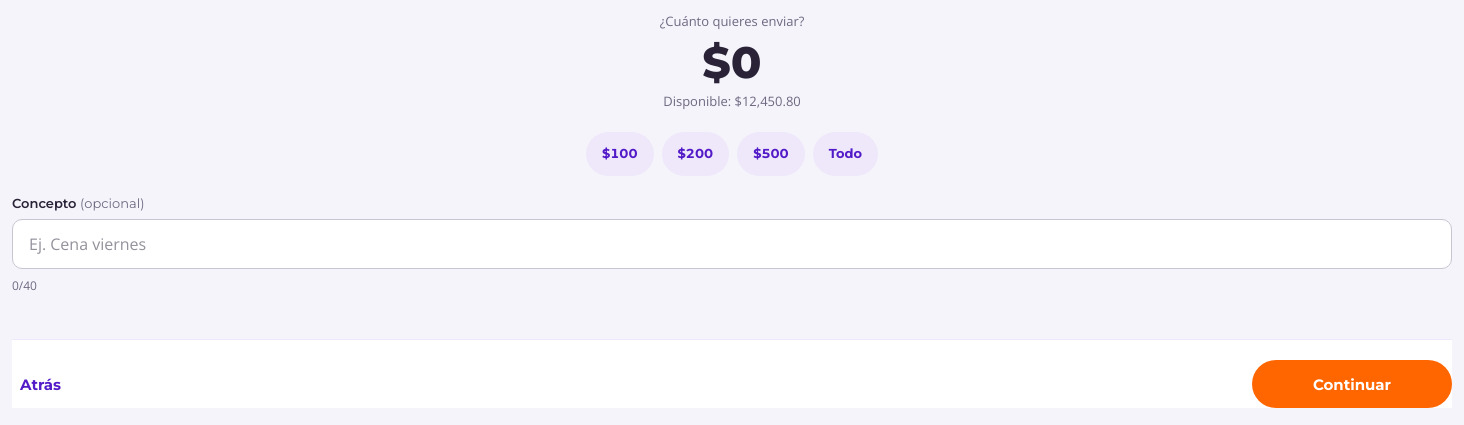
Test: AmountStep › formats the amount while typing
The width and height of the screenshot is (1464, 425).
In the field labelled "¿Cuánto quieres enviar?": (746, 62) [731,36,762,88], type "12450.8"
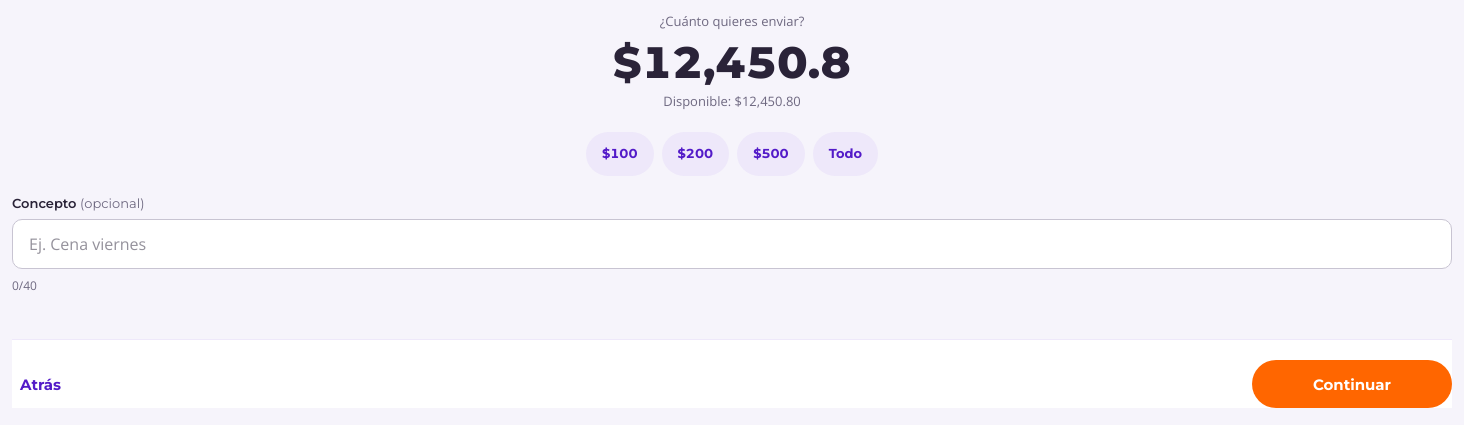
Result: the field labelled "¿Cuánto quieres enviar?" holds "12,450.8" at [641,36,851,88]
